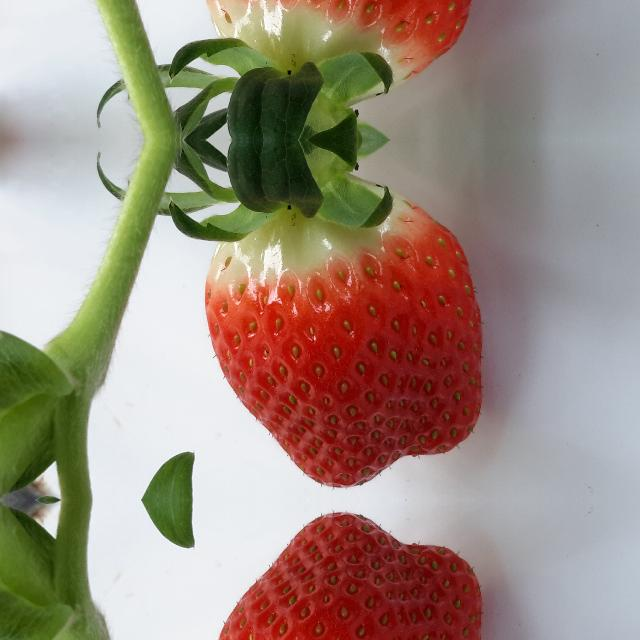Health_100: (204, 190, 483, 488), (204, 512, 483, 640), (204, 0, 483, 90)
